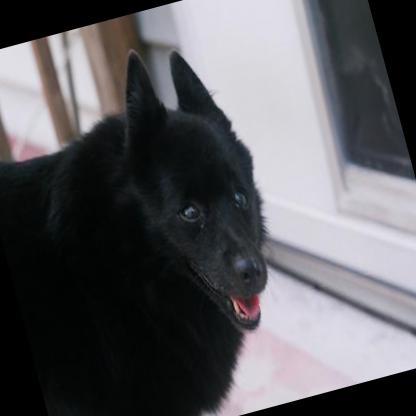schipperke: (0, 23, 314, 416)
